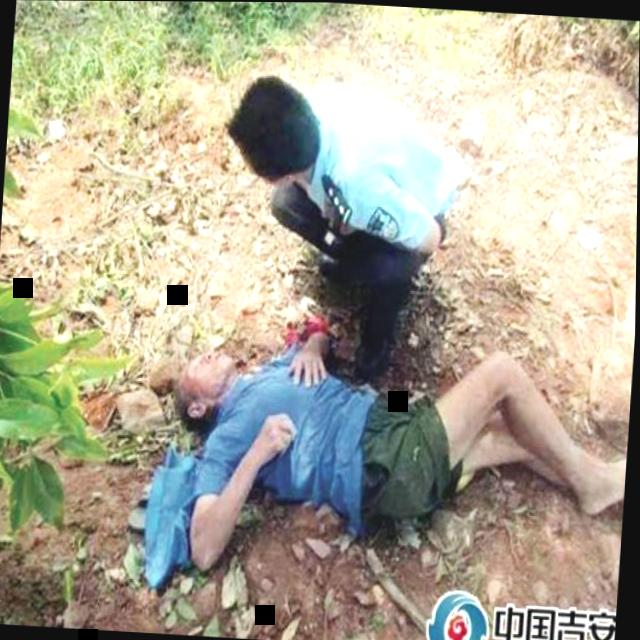Fall-Detected: (139, 310, 636, 611)
